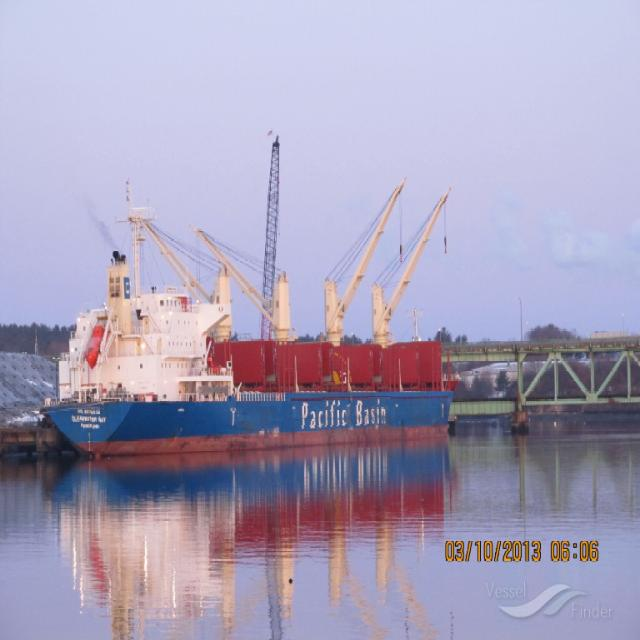OCR: (300, 396, 391, 436), (68, 404, 109, 432)
